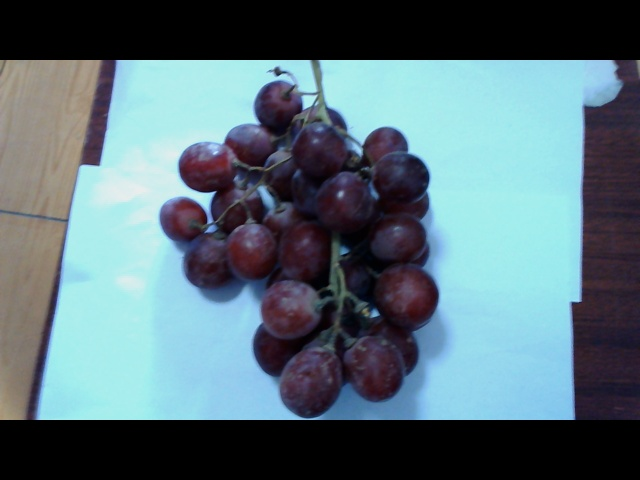grape: (160, 90, 434, 411)
